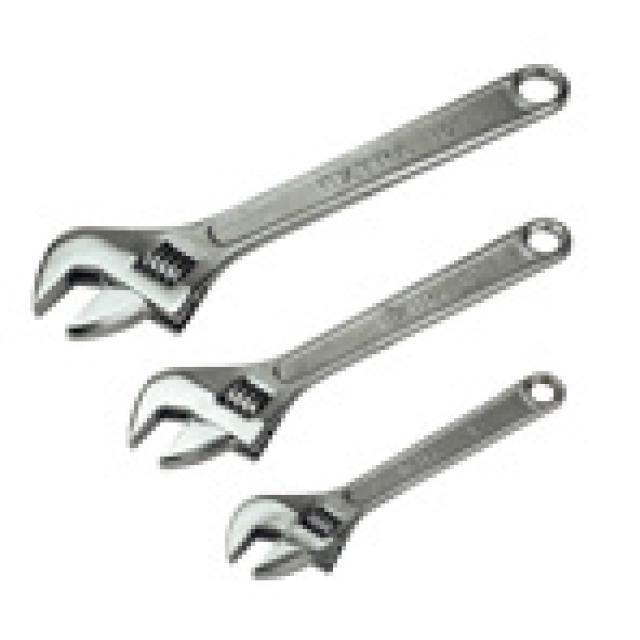wrench: (28, 58, 578, 344), (119, 211, 576, 472), (218, 362, 572, 588)
